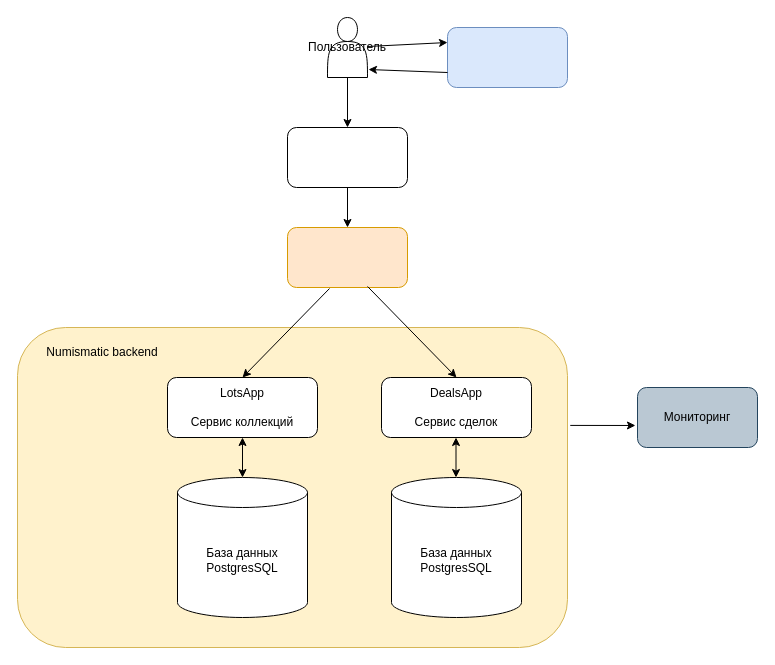
Image size: 775x665. Some labels were removed from this diagram. The box of each missing label's shape, as (x1, y1, x2, y2) in pixels:
API Gateway: (286, 226, 408, 288)
Frontend: (286, 126, 408, 188)
Identity Service: (446, 26, 568, 88)
